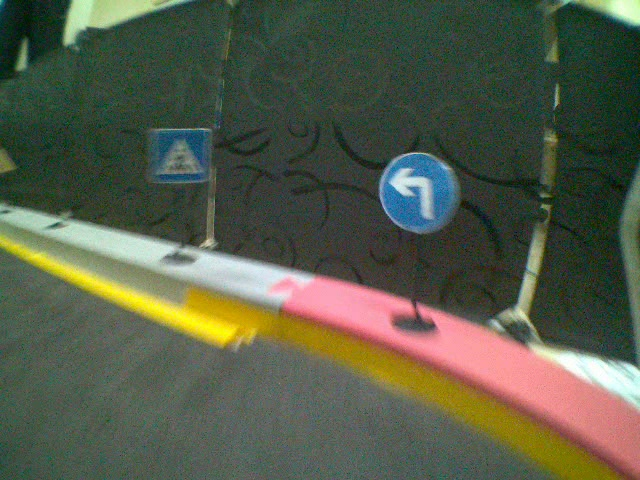crossing: (148, 129, 212, 186)
turn: (376, 150, 461, 235)
